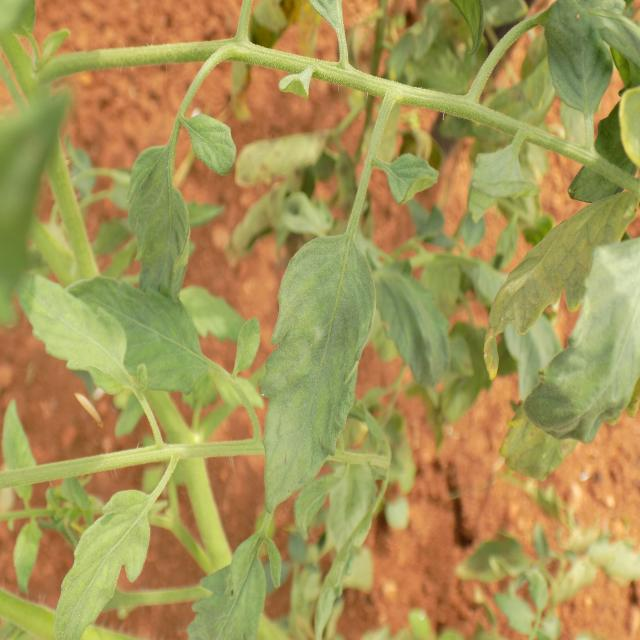tomato_healthy: (262, 232, 378, 503), (52, 487, 148, 636), (16, 280, 128, 381), (128, 148, 196, 302)
